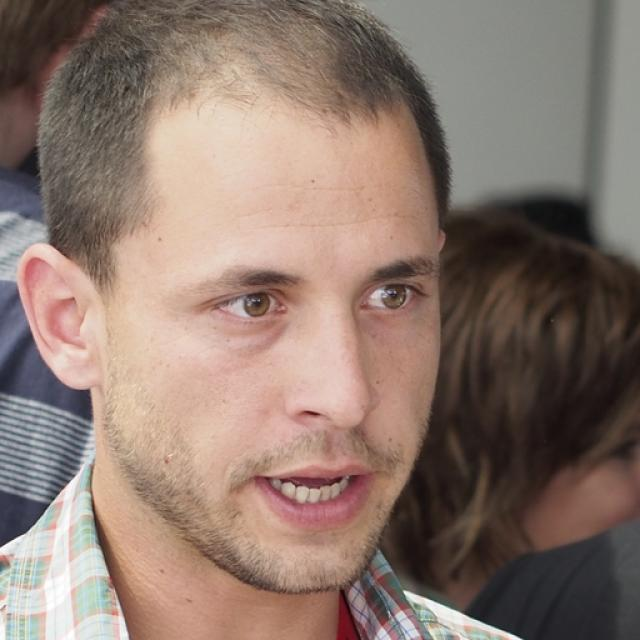Wrinkle: (252, 200, 425, 233), (284, 174, 387, 199)
